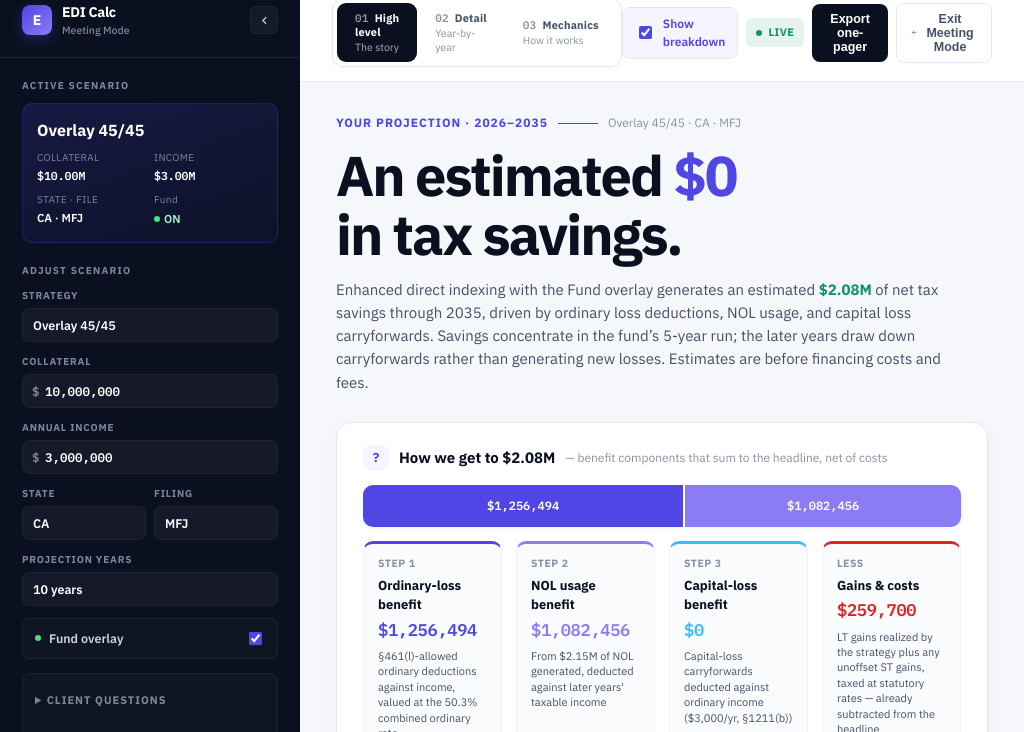
Scenario: Meeting rail what-ifs (D-023) › renders all four controls unchecked, labeled as resettable what-ifs
Click the heading "Client questions": (107, 700) [47, 693, 167, 707]
(page scrolled)
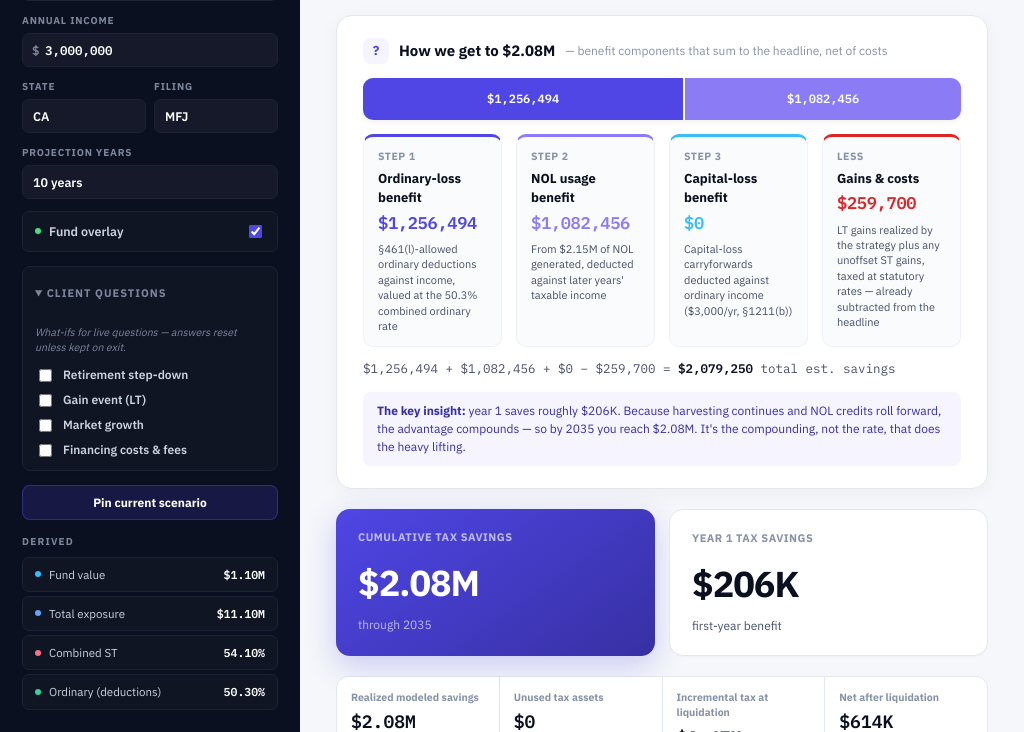
Now the checkbox with test id "mm-whatif-retirement" is not checked, box [39, 369, 52, 382]
Now the checkbox with test id "mm-whatif-gain" is not checked, box [39, 394, 52, 407]
Now the checkbox with test id "mm-whatif-growth" is not checked, box [39, 419, 52, 432]
